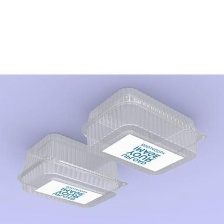plastic_box: (75, 83, 211, 181), (11, 128, 134, 213)
